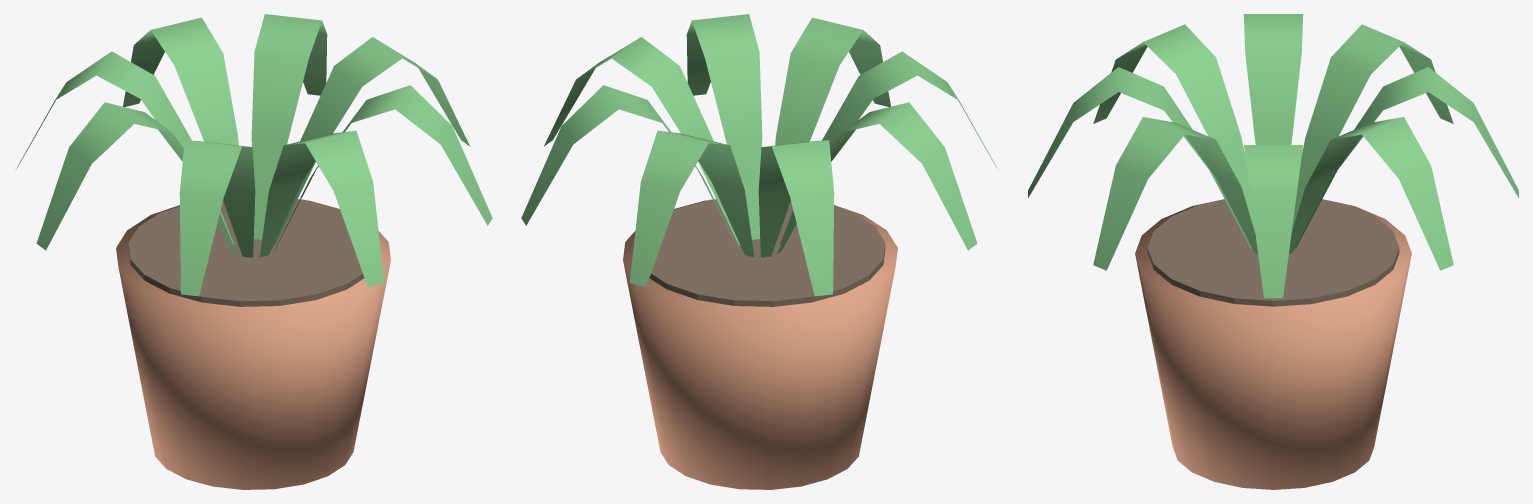
Rendered from decor_plant.glb.
3 renders of one model, left to right at view 1: azimuth 30°, elevation 25°; view 2: azimuth 150°, elevation 25°; view 3: azimuth 270°, elevation 25°, orthographic.
Parts seen in each view (by area): view 1: decor_plant_pot, decor_plant_soil, decor_plant_leaf_1, decor_plant_leaf_6, decor_plant_leaf_5, decor_plant_leaf_2, decor_plant_leaf_4, decor_plant_leaf_0, decor_plant_leaf_7, decor_plant_leaf_3; view 2: decor_plant_pot, decor_plant_soil, decor_plant_leaf_7, decor_plant_leaf_2, decor_plant_leaf_3, decor_plant_leaf_6, decor_plant_leaf_4, decor_plant_leaf_0, decor_plant_leaf_1, decor_plant_leaf_5; view 3: decor_plant_pot, decor_plant_soil, decor_plant_leaf_1, decor_plant_leaf_7, decor_plant_leaf_3, decor_plant_leaf_5, decor_plant_leaf_4, decor_plant_leaf_0, decor_plant_leaf_2, decor_plant_leaf_6.
Boxes of the visible parts, x1,y1,x2,y2 form: decor_plant_pot: [116, 200, 390, 489]; decor_plant_soil: [128, 199, 364, 306]; decor_plant_leaf_1: [251, 14, 327, 239]; decor_plant_leaf_6: [259, 130, 384, 286]; decor_plant_leaf_5: [179, 140, 255, 296]; decor_plant_leaf_2: [123, 17, 238, 145]; decor_plant_leaf_4: [36, 102, 236, 254]; decor_plant_leaf_0: [274, 37, 469, 245]; decor_plant_leaf_7: [274, 85, 492, 250]; decor_plant_leaf_3: [16, 51, 233, 244]; decor_plant_pot: [623, 200, 897, 489]; decor_plant_soil: [649, 199, 885, 306]; decor_plant_leaf_7: [686, 14, 762, 239]; decor_plant_leaf_2: [629, 130, 754, 286]; decor_plant_leaf_3: [758, 140, 834, 296]; decor_plant_leaf_6: [775, 17, 890, 145]; decor_plant_leaf_4: [777, 102, 977, 254]; decor_plant_leaf_0: [544, 37, 739, 245]; decor_plant_leaf_1: [521, 85, 739, 250]; decor_plant_leaf_5: [780, 51, 997, 244]; decor_plant_pot: [1135, 199, 1411, 489]; decor_plant_soil: [1147, 199, 1399, 306]; decor_plant_leaf_1: [1289, 117, 1453, 270]; decor_plant_leaf_7: [1093, 117, 1257, 270]; decor_plant_leaf_3: [1291, 24, 1453, 232]; decor_plant_leaf_5: [1093, 24, 1255, 232]; decor_plant_leaf_4: [1243, 14, 1303, 144]; decor_plant_leaf_0: [1244, 145, 1302, 298]; decor_plant_leaf_2: [1295, 67, 1518, 249]; decor_plant_leaf_6: [1028, 67, 1251, 249].
Bounding box in the file's own units: 0.078 × 0.0645 × 0.078.
